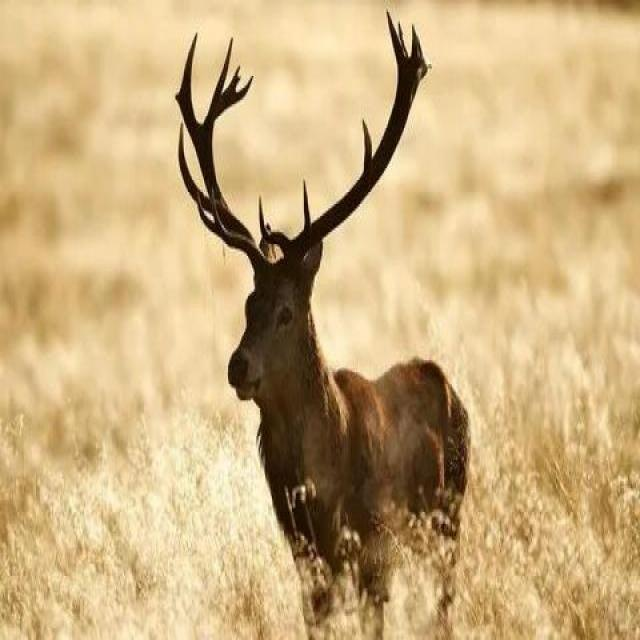deer: (212, 153, 520, 640)
